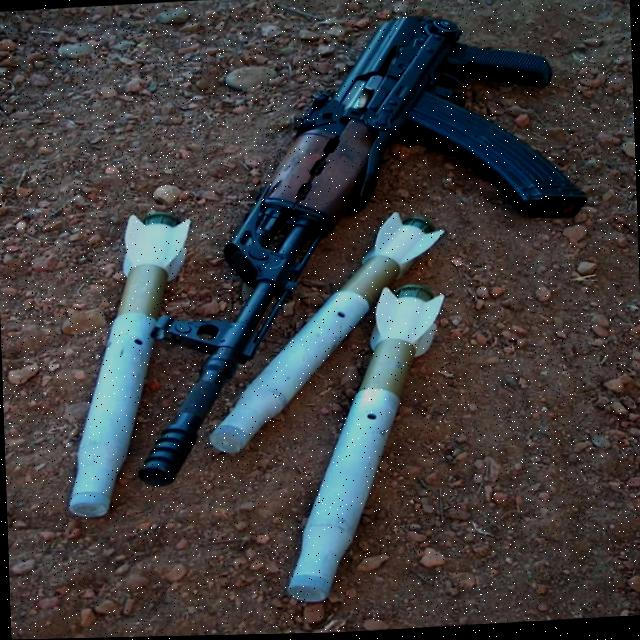firearm: (124, 10, 596, 489)
grenade: (202, 210, 452, 456), (276, 284, 456, 605), (58, 211, 201, 519)
